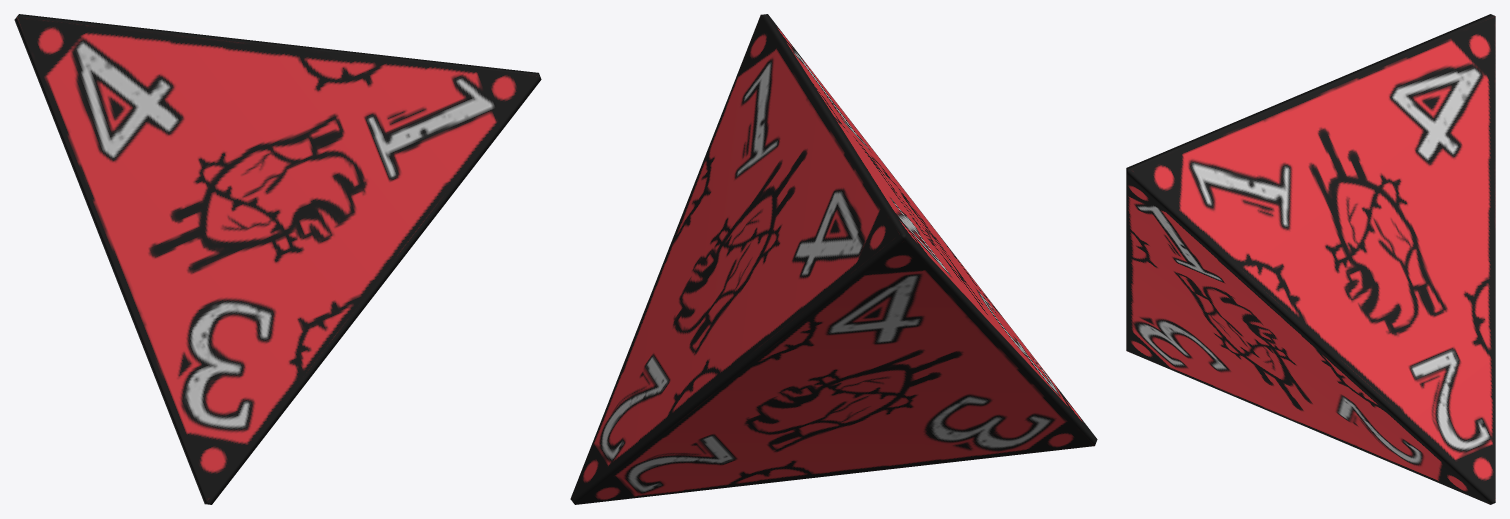
Rendered from d4-carrion.glb.
3 renders of one model, left to right at view 1: azimuth 30°, elevation 25°; view 2: azimuth 150°, elevation 25°; view 3: azimuth 270°, elevation 25°, orthographic. The views are drawn at different scales.
Visible parts, largest first — view 1: Mesh_0; view 2: Mesh_0; view 3: Mesh_0.
Part boxes in pixels (left/top/right/bottom): Mesh_0: left=14, top=14, right=541, bottom=504; Mesh_0: left=570, top=14, right=1097, bottom=504; Mesh_0: left=1126, top=14, right=1495, bottom=504.
Bounding box in the file's own units: 135 × 135 × 135.
1 material, 1 textured.
